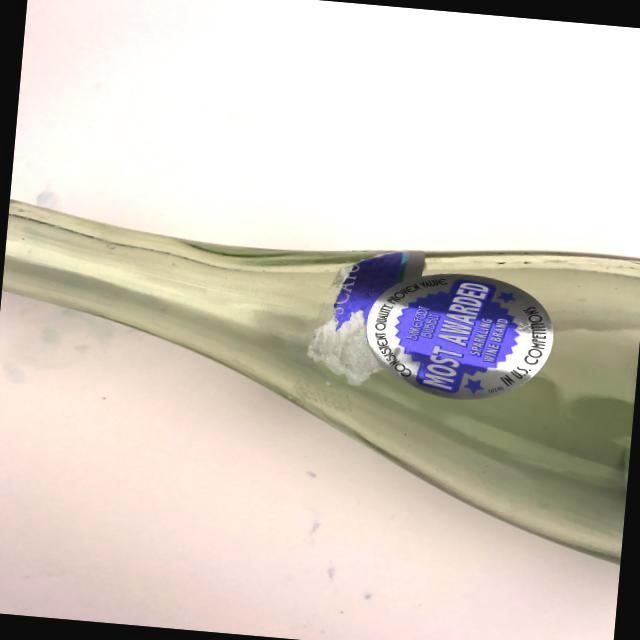glass: (0, 184, 640, 571)
